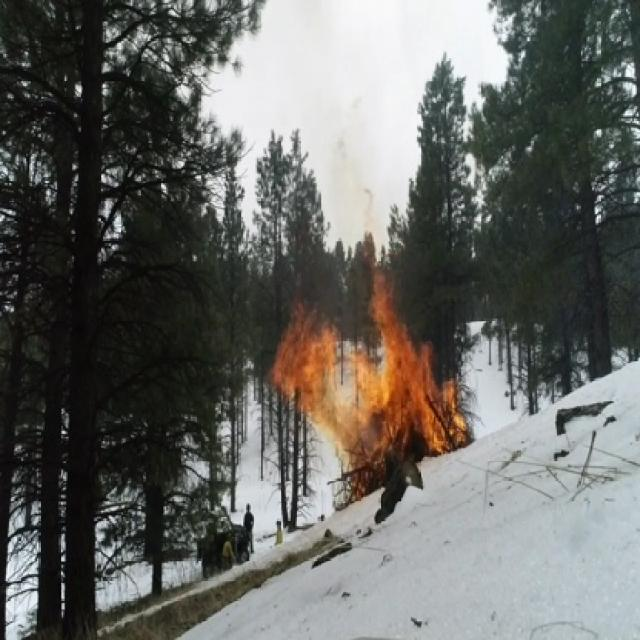Fire: (269, 242, 477, 502)
